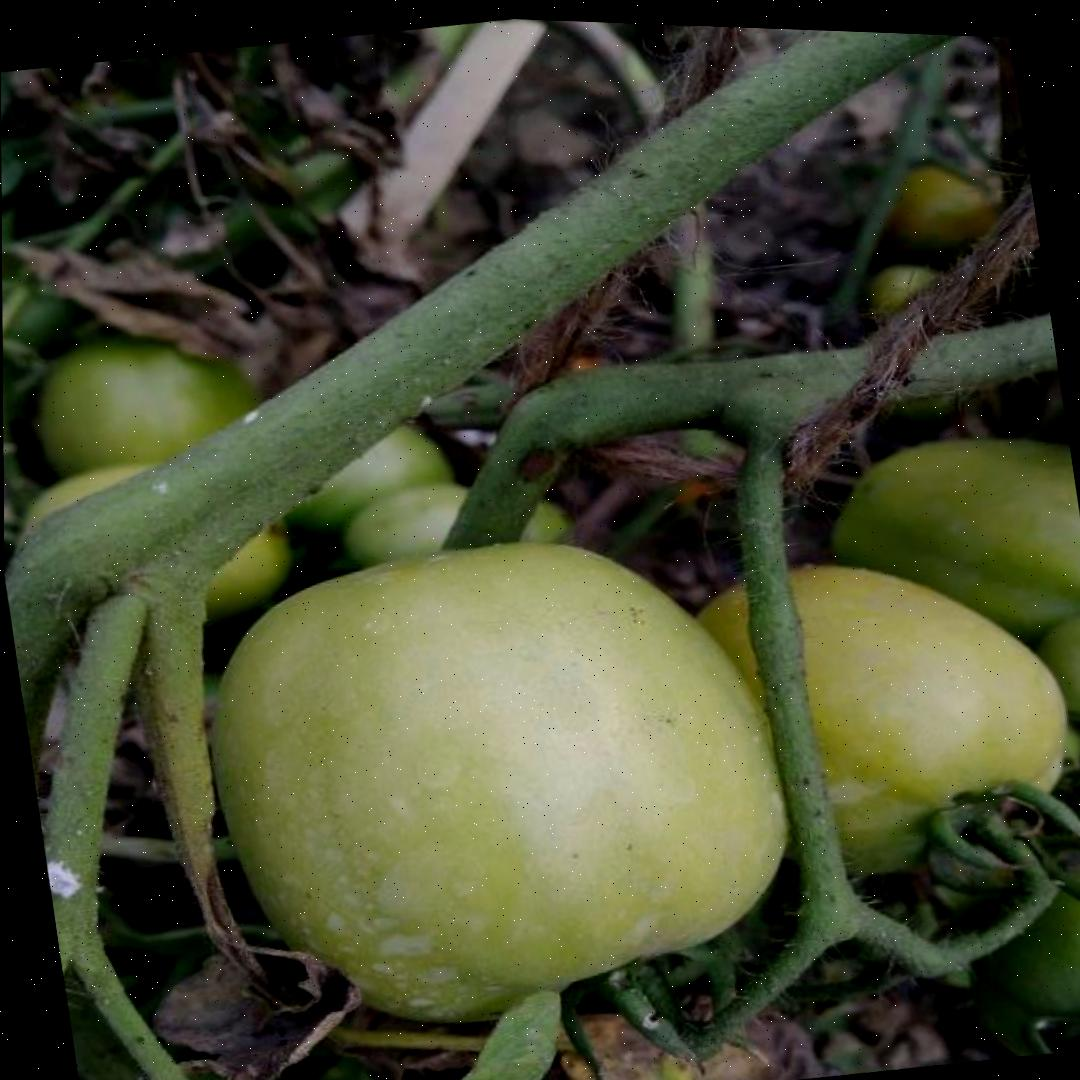mentah: (180, 494, 818, 1066), (661, 522, 1080, 903)
